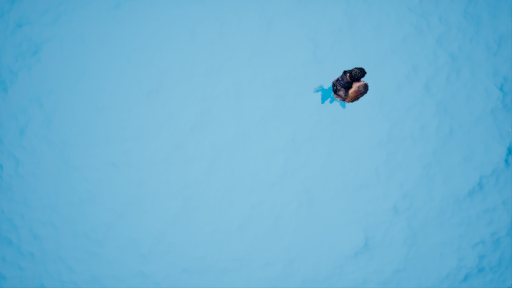person: (313, 66, 369, 112)
